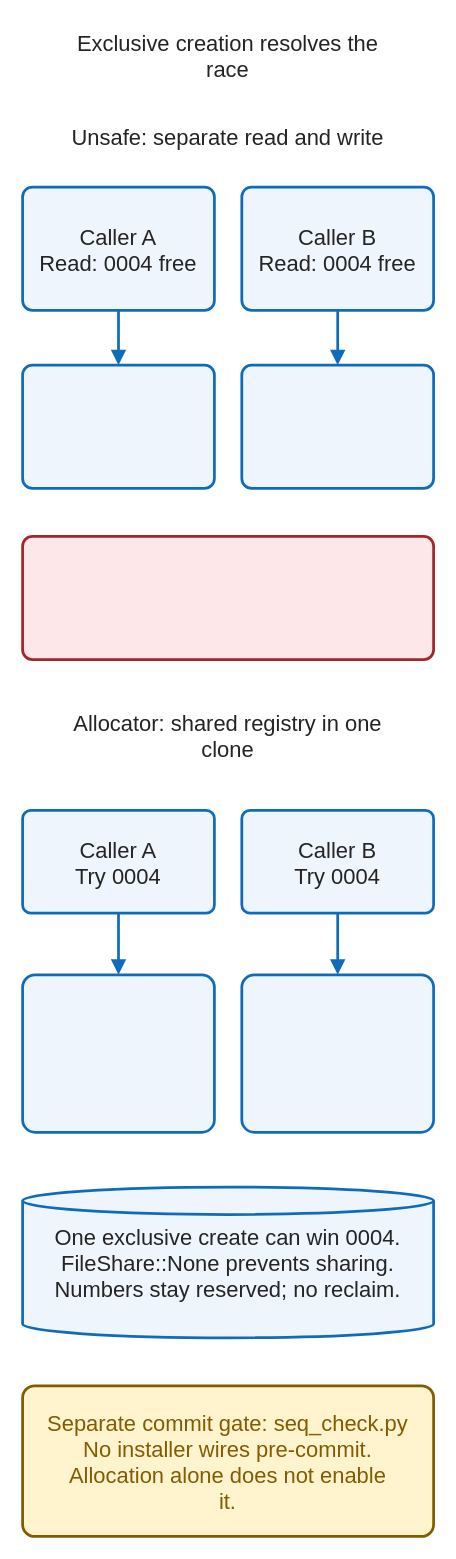
Image size: 456x1559. Some labels were removed from this diagram. The shapes that lost their labels are listed below. From the top down, each one's centre as x and y in pixels, then its label:
At point 118,426: "Write 0004-alpha.md".
At point 337,426: "Write 0004-beta.md".
At point 227,597: "Different files merge cleanly. Number 0004 is duplicated.".
At point 118,1053: "CreateNew succeeds: A owns 0004".
At point 337,1053: "IOException: B tries 0005 (next number)".
